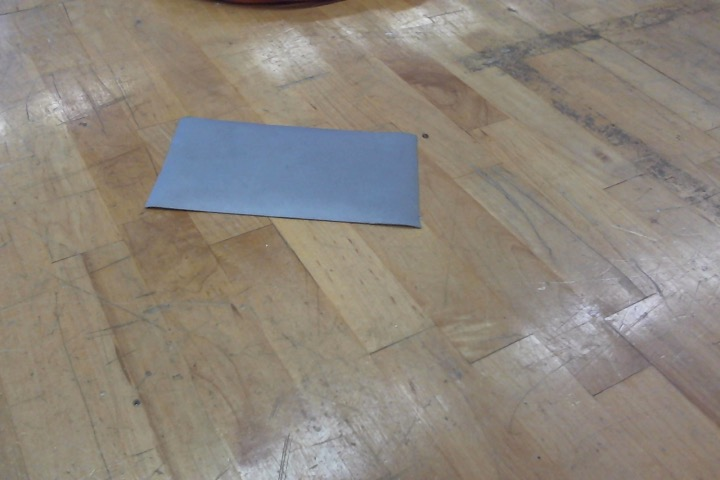Tape: (144, 117, 422, 228)
